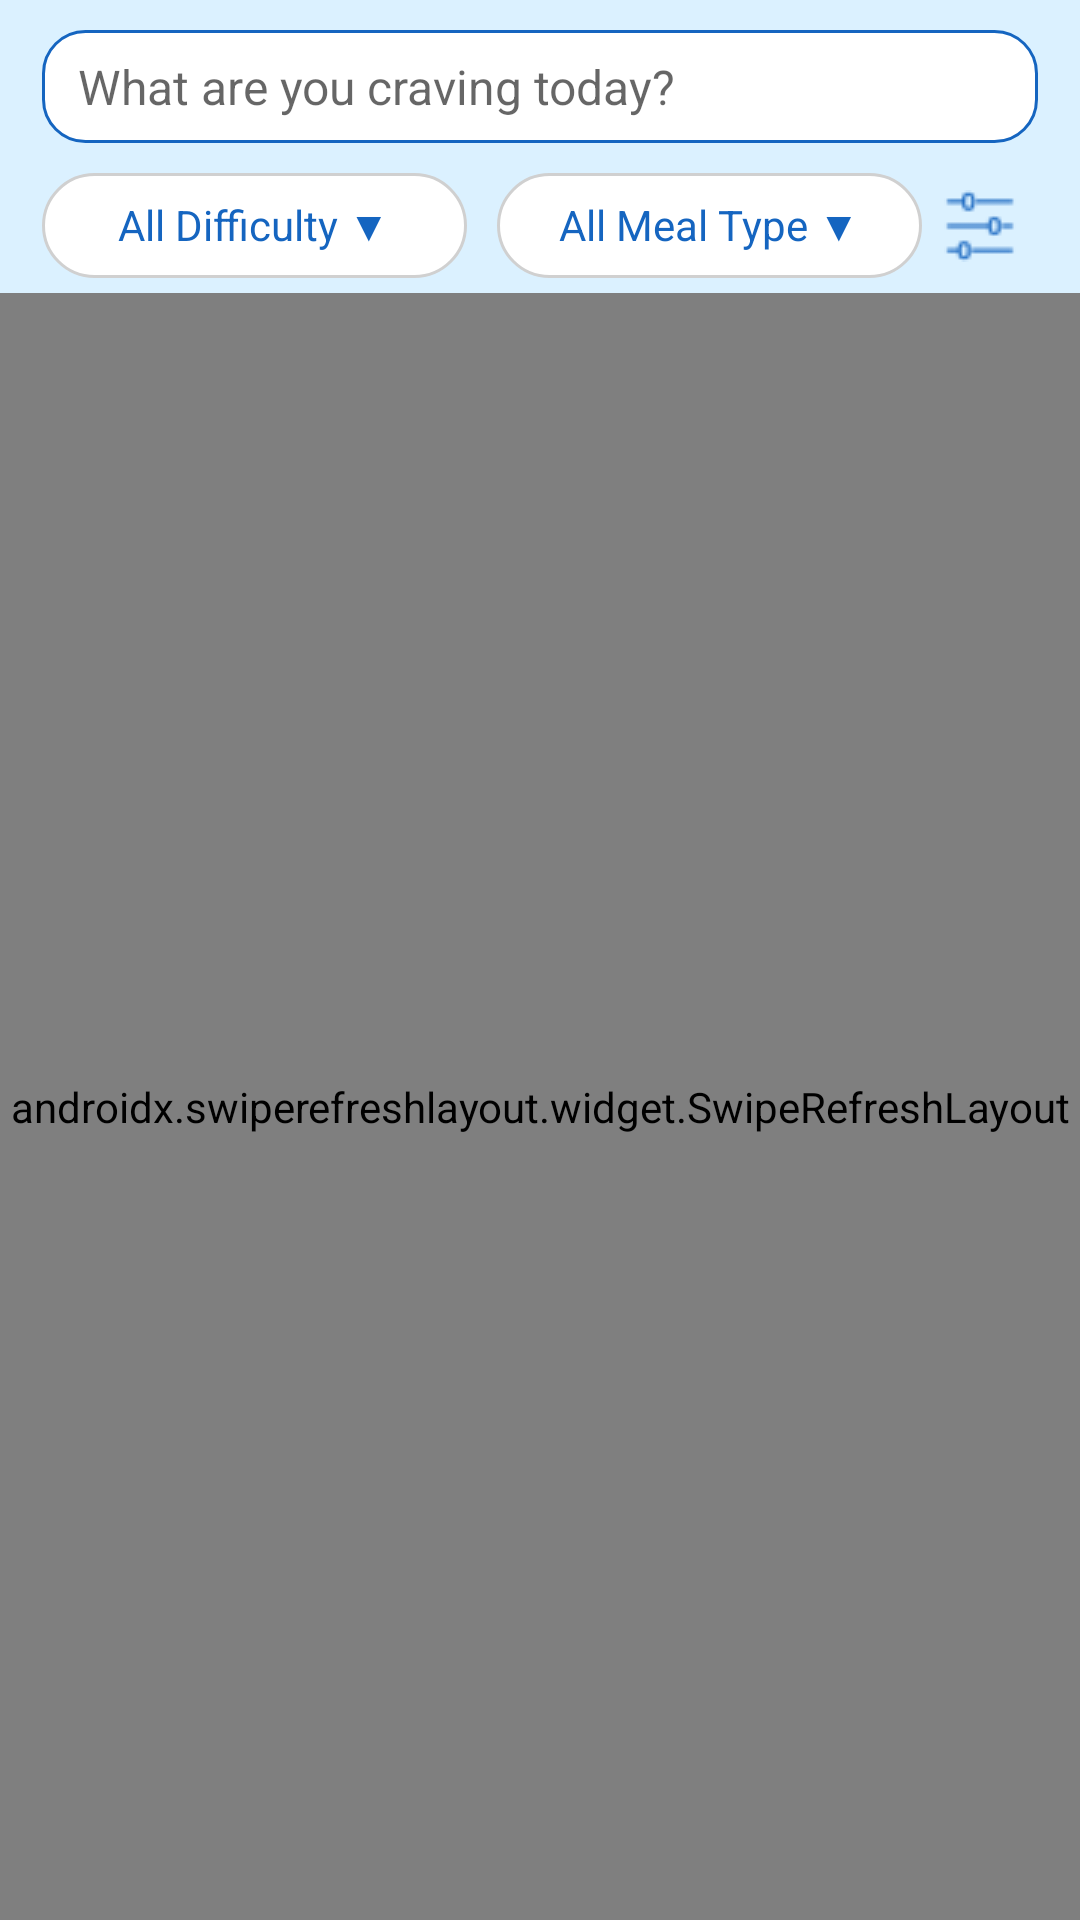

Where icons sit on this 1080 x 1920 app screen, as (left=x1, top=y1, right=x2, bottom=y2):
Advanced filters: (left=946, top=192, right=1014, bottom=260)
